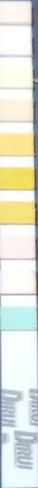color 1: (1, 4, 29, 23)
color 10: (1, 308, 35, 329)
color 2: (1, 37, 31, 54)
color 3: (1, 68, 31, 86)
color 4: (1, 102, 32, 120)
color 5: (1, 135, 33, 155)
color 6: (1, 167, 34, 187)
color 7: (1, 203, 33, 222)
color 8: (1, 239, 36, 257)
color 9: (1, 272, 34, 293)
